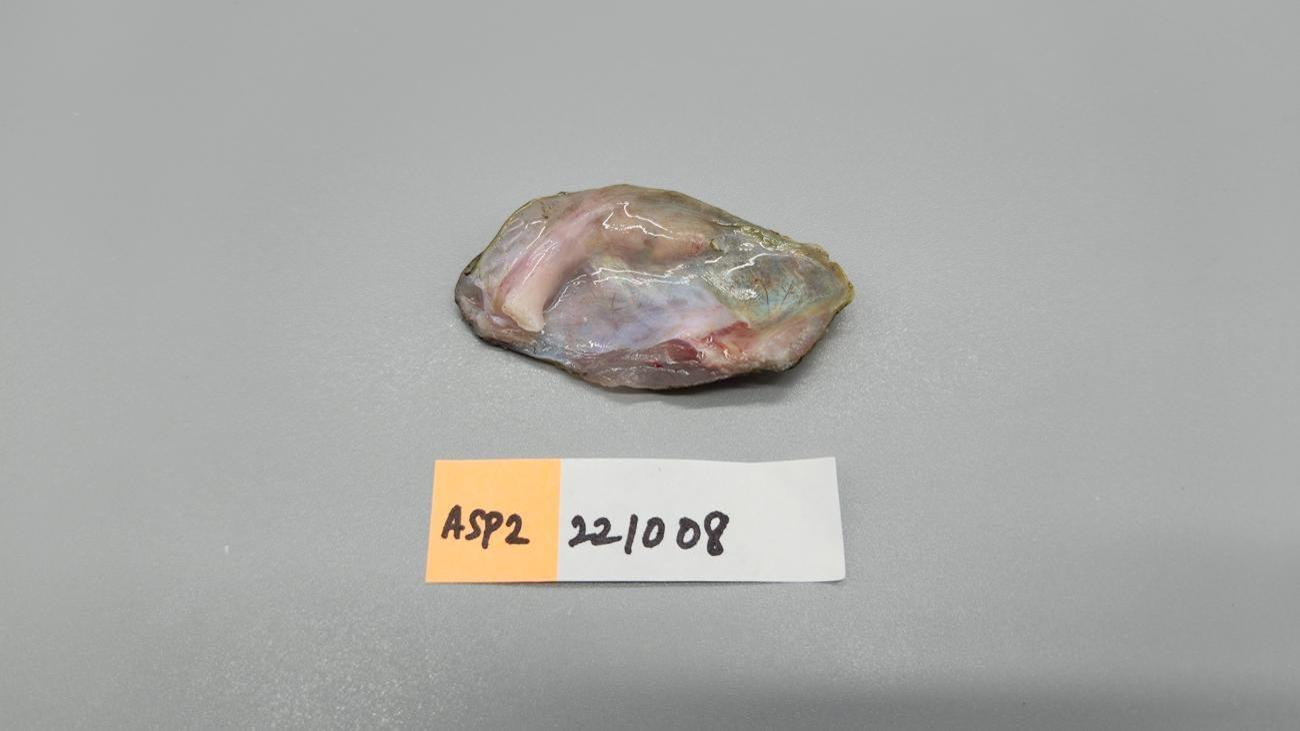SPGCH: (633, 318, 764, 373)
